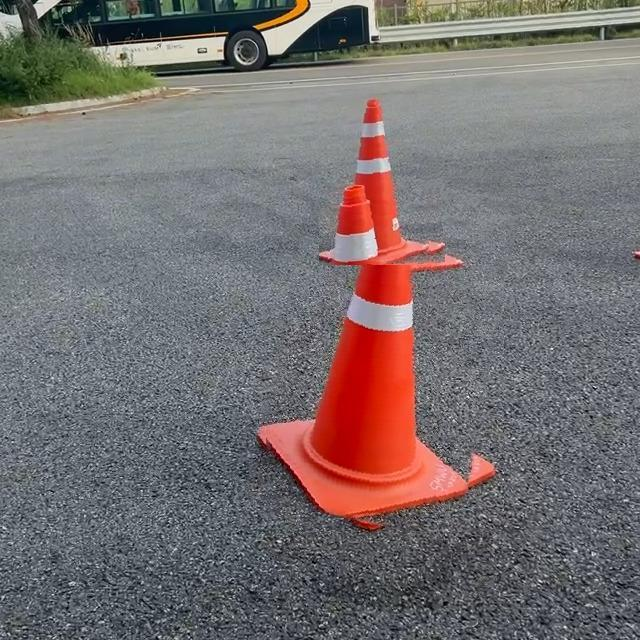fallen_object: (247, 167, 508, 537), (305, 79, 462, 290)
